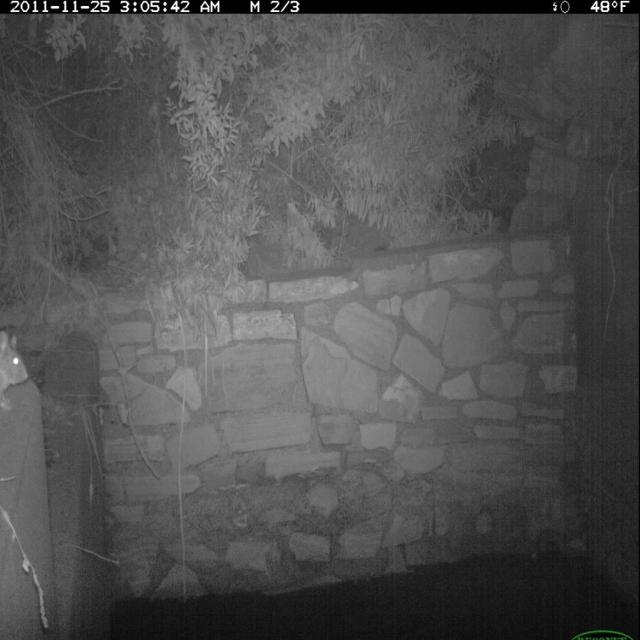rodent: (2, 326, 36, 415)
